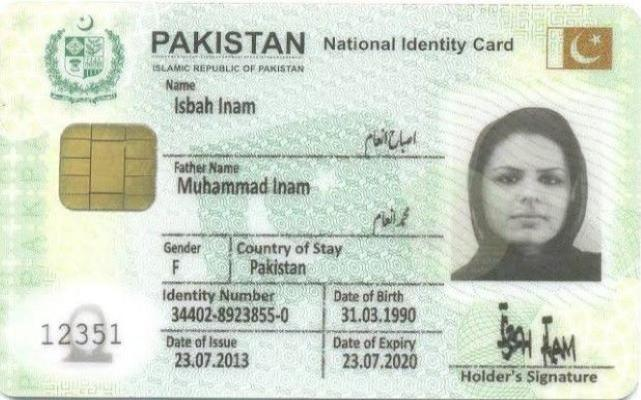fname: (175, 172, 314, 200)
name: (170, 93, 260, 119)
number: (169, 302, 292, 328)
